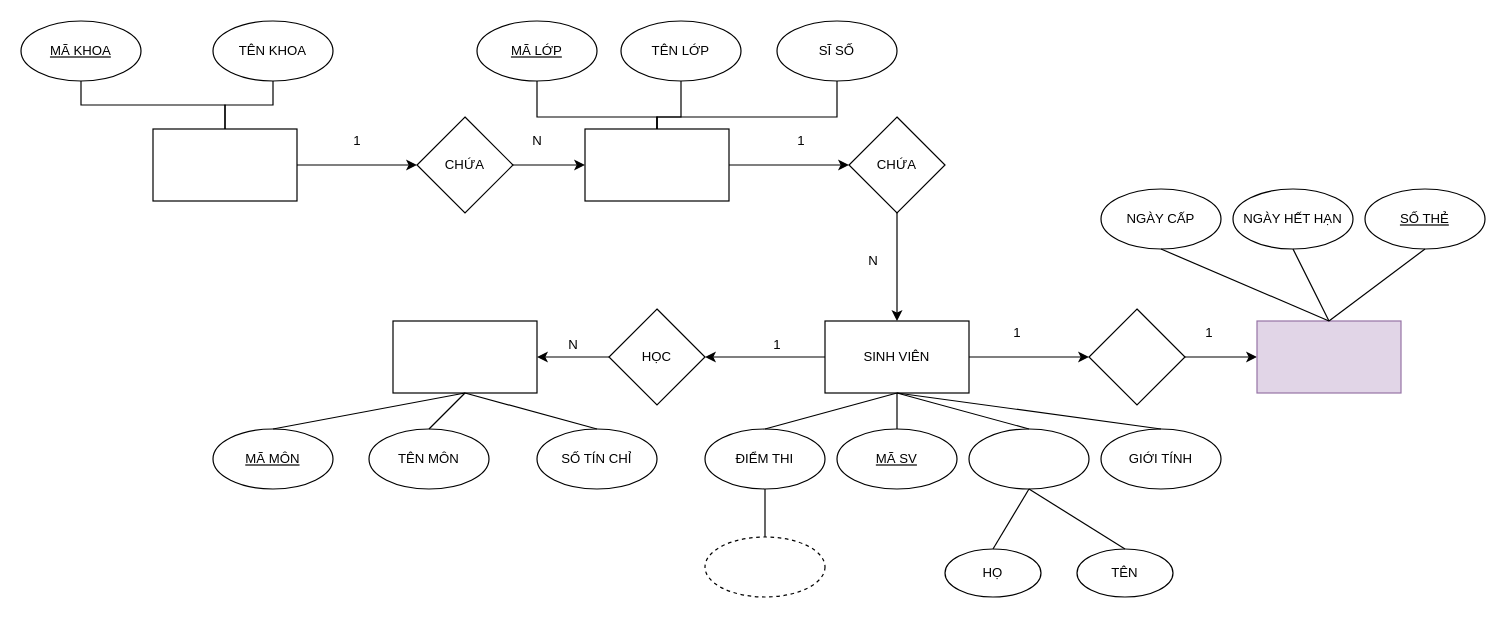
The diagram is 1506 pixels wide and 618 high, and some of its shapes have lost their labels. Here are the shapes that lost their labels. From the top down, the centre of each, then its label:
At [224,164]: "KHOA".
At [656,164]: "LỚP HỌC".
At [464,356]: "MÔN HỌC".
At [1136,356]: "SỞ HỮU".
At [1328,356]: "THẺ THƯ VIỆN".
At [1028,458]: "HỌ TÊN".
At [764,566]: "ĐIỂM TỐT NGHIỆP".
